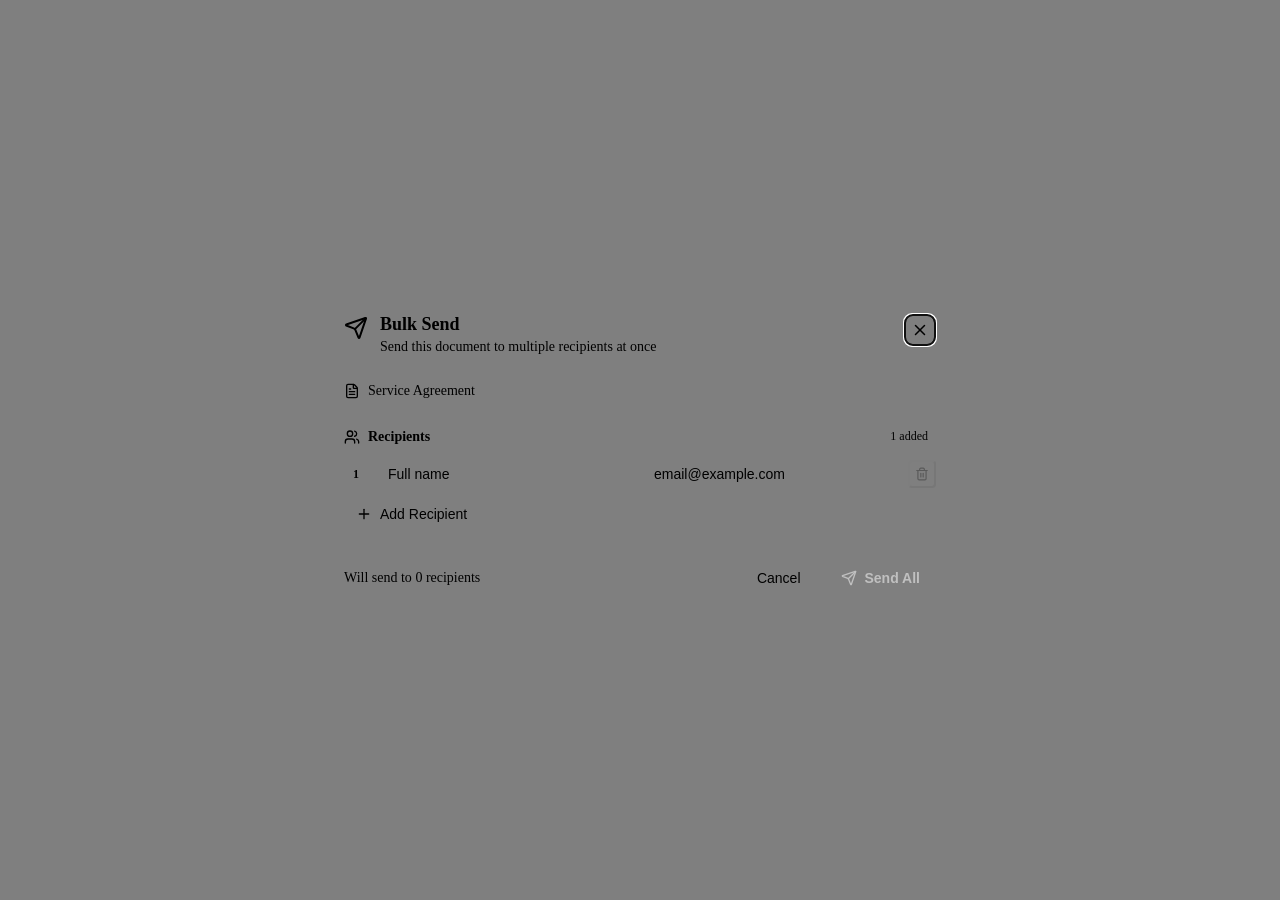
BulkSendModal › adds a new recipient row when Add Recipient is clicked
This screenshot has width=1280, height=900.
Click the button "Add Recipient": (424, 514) [344,498,936,530]
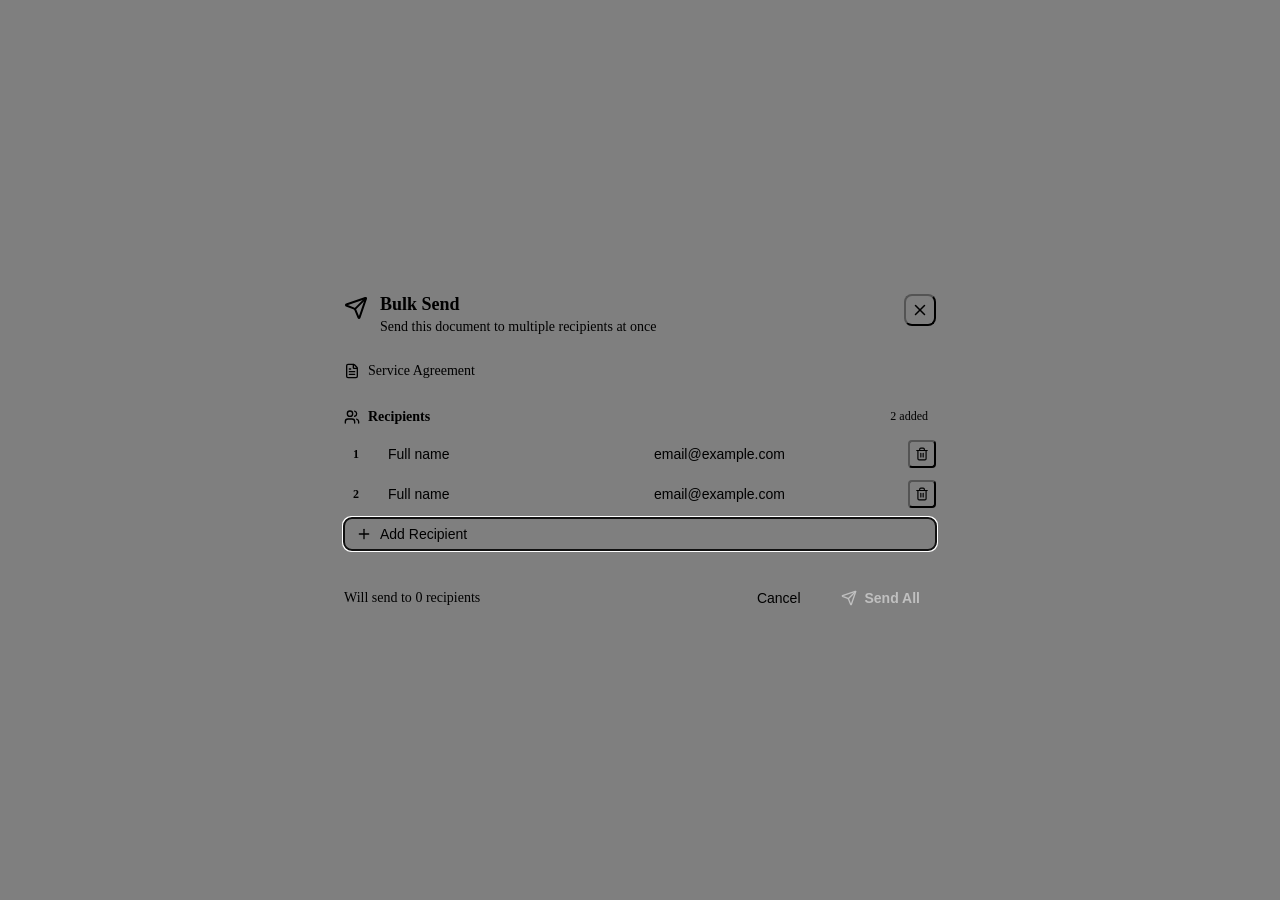
Expected: the field named "Recipient 2 name" is shown, [376,478,634,510]
Expected: the text "2 added" is shown, [890,409,928,423]
